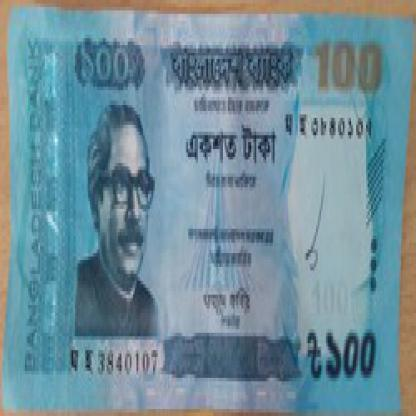one hundred taka: (308, 28, 391, 107), (72, 28, 146, 97), (323, 312, 386, 388)
